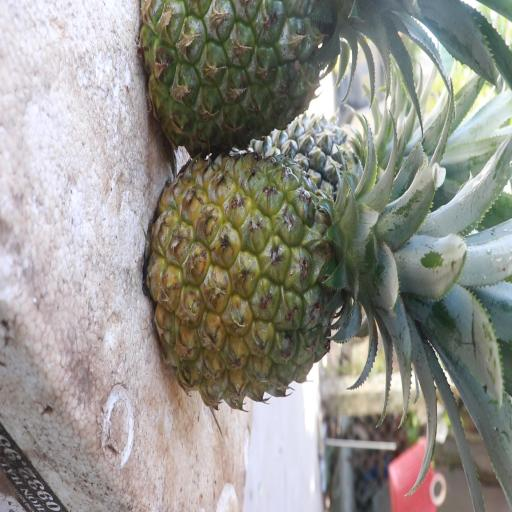------------------------------: (139, 0, 373, 149)
Pineapple - v8 v1: (151, 143, 414, 412)
